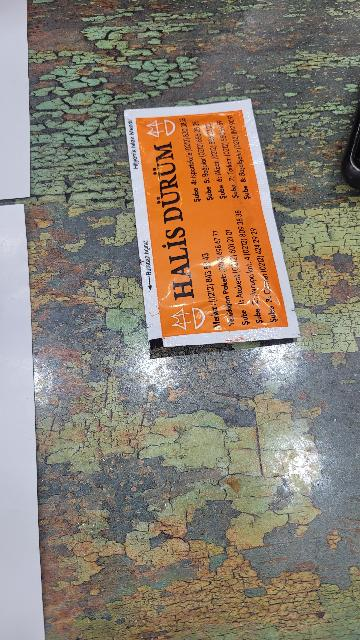Plastik: (120, 94, 307, 350)
